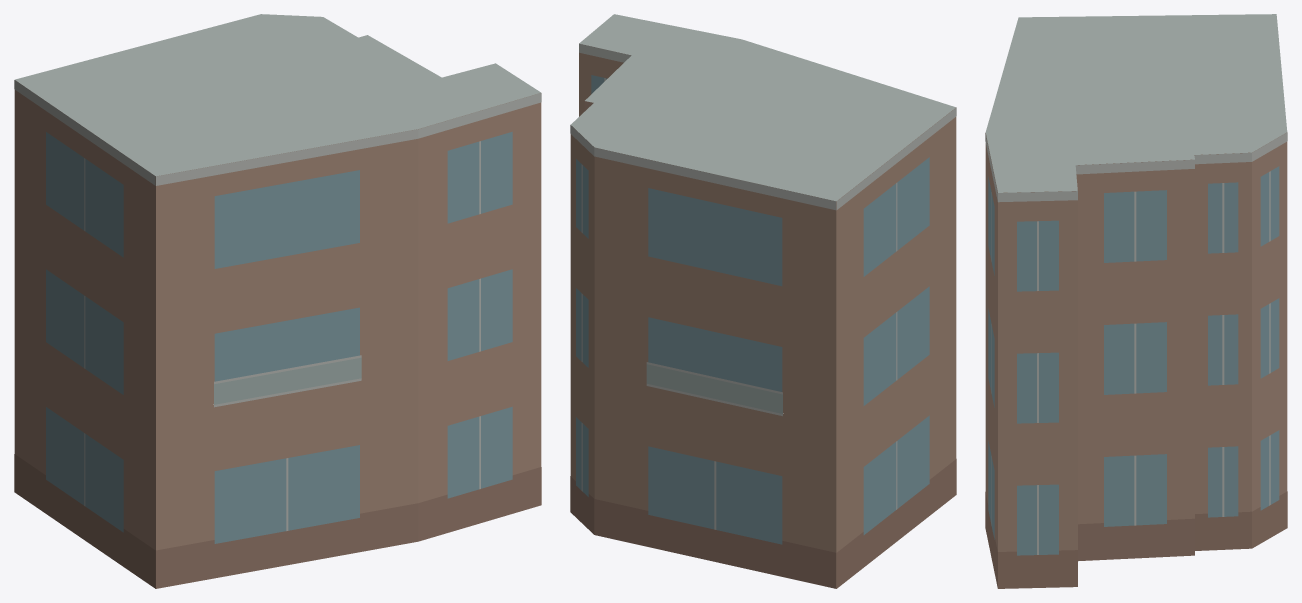
Rendered from survey-upis-32989394.glb.
3 views of the same model, side by side, from view 1: azimuth 30°, elevation 25°; view 2: azimuth 150°, elevation 25°; view 3: azimuth 270°, elevation 25° (orthographic). The views are drawn at different scales.
Visible parts, largest first — view 1: survey-upis-32989394.tmp; view 2: survey-upis-32989394.tmp; view 3: survey-upis-32989394.tmp.
Boxes of the visible parts, bbox=[...] form: survey-upis-32989394.tmp: bbox=[14, 14, 541, 588]; survey-upis-32989394.tmp: bbox=[570, 14, 956, 588]; survey-upis-32989394.tmp: bbox=[985, 14, 1287, 588].
Size of the model in its own units: 10.09 by 10.4 by 7.19.
